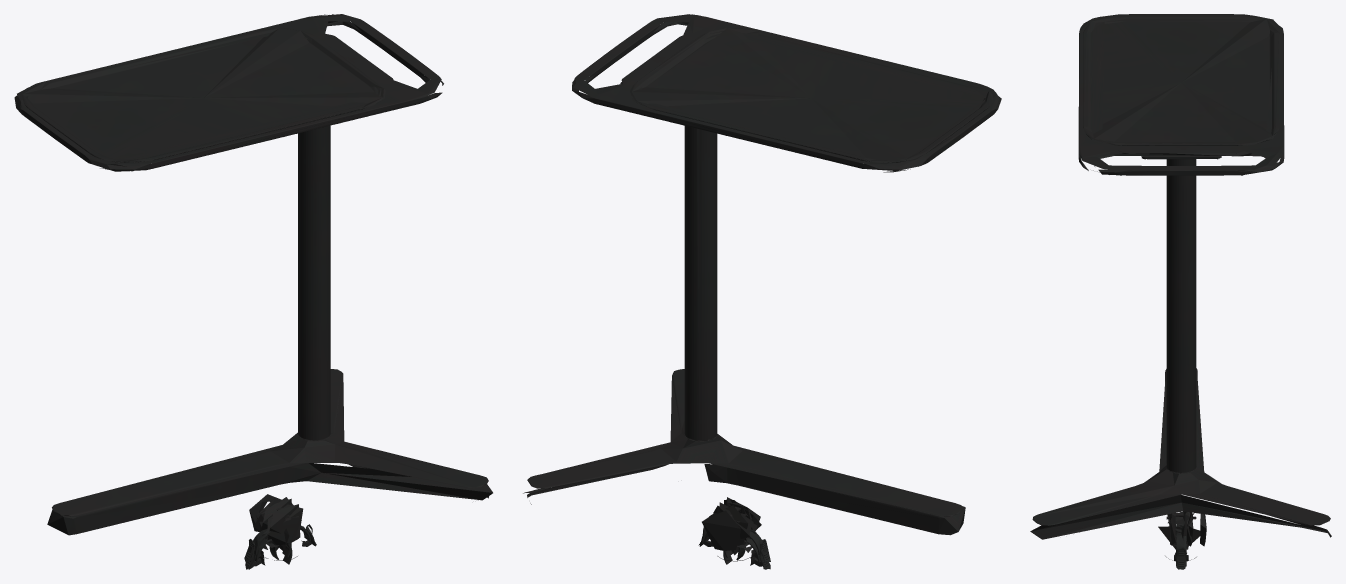
The model's file is trolley_catering_b01.glb.
3 views of the same model, side by side, from view 1: azimuth 30°, elevation 25°; view 2: azimuth 150°, elevation 25°; view 3: azimuth 270°, elevation 25° (orthographic). The views are drawn at different scales.
Visible parts, largest first — view 1: geometry_0; view 2: geometry_0; view 3: geometry_0.
Part boxes in pixels (x1,y1,x2,y2): geometry_0: [14, 14, 492, 569]; geometry_0: [523, 14, 1001, 569]; geometry_0: [1030, 14, 1331, 569].
Bounding box in the file's own units: 0.3266 × 0.42 × 0.2552.
1 material, 1 textured.
